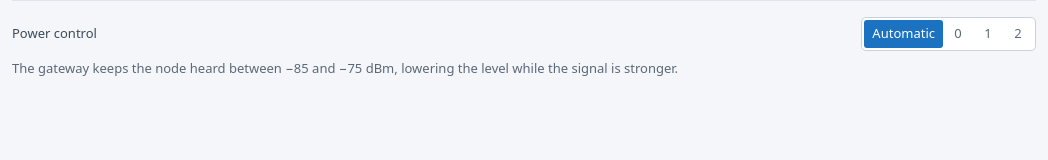
NodeRadio › puts the choice back when the gateway refuses it
Click the button "2" at point(1018, 34), box [1003,20,1033,48]
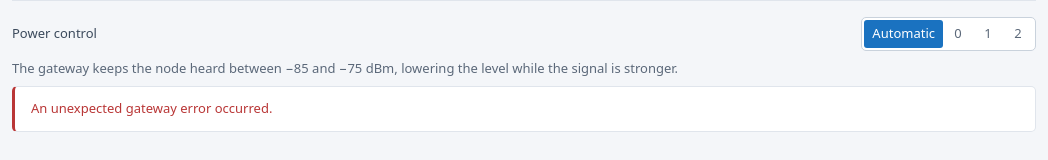
Expected: the button "Automatic" is shown, [864,20,943,48]
Result: the text with class "error" reads "An unexpected gateway error occurred." at [31,99,272,117]
